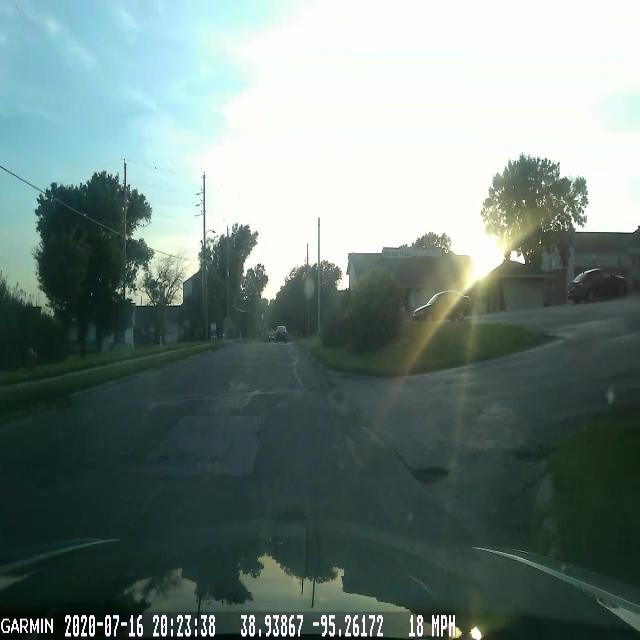Pothole: (400, 450, 458, 495)
